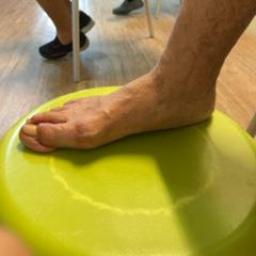Medial View -Right Foot-: (8, 35, 239, 171)
